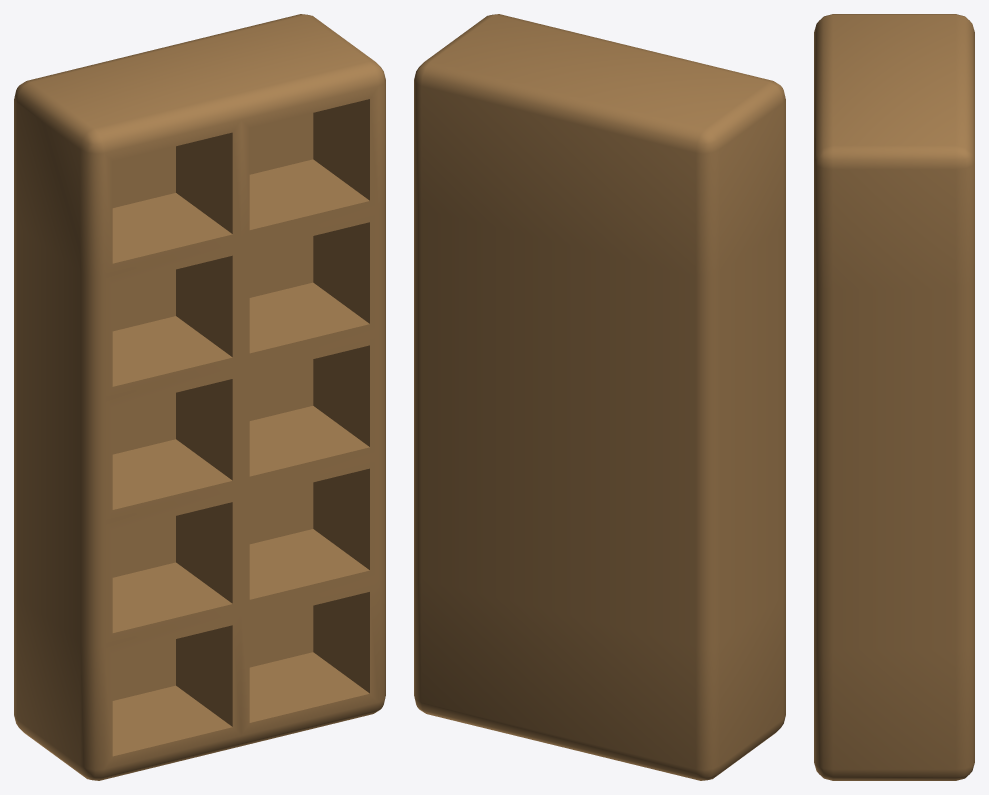
The model's file is Shelf_1V.fbx.
3 views of the same model, side by side, from view 1: azimuth 30°, elevation 25°; view 2: azimuth 150°, elevation 25°; view 3: azimuth 270°, elevation 25° (orthographic). The views are drawn at different scales.
Parts seen in each view (by area): view 1: Shelf_1V; view 2: Shelf_1V; view 3: Shelf_1V.
Boxes of the visible parts, x1,y1,x2,y2 form: Shelf_1V: (14, 14, 385, 780); Shelf_1V: (414, 14, 785, 780); Shelf_1V: (814, 14, 974, 780).
Size of the model in its own units: 1.01 by 2.07 by 0.4751.
